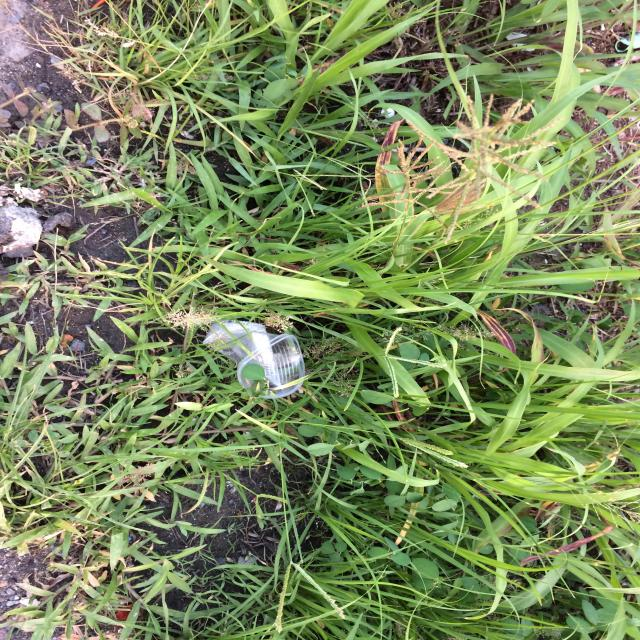litter: (204, 320, 311, 396)
